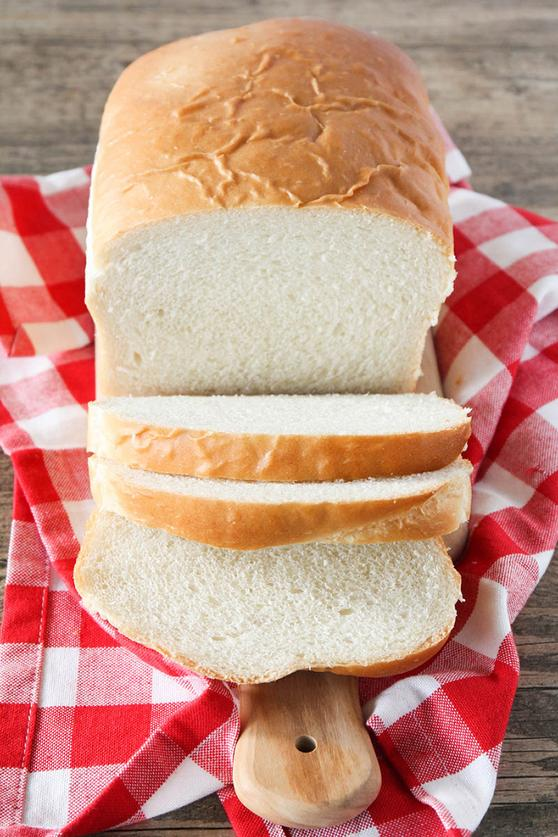white_bread: (85, 29, 454, 382)
